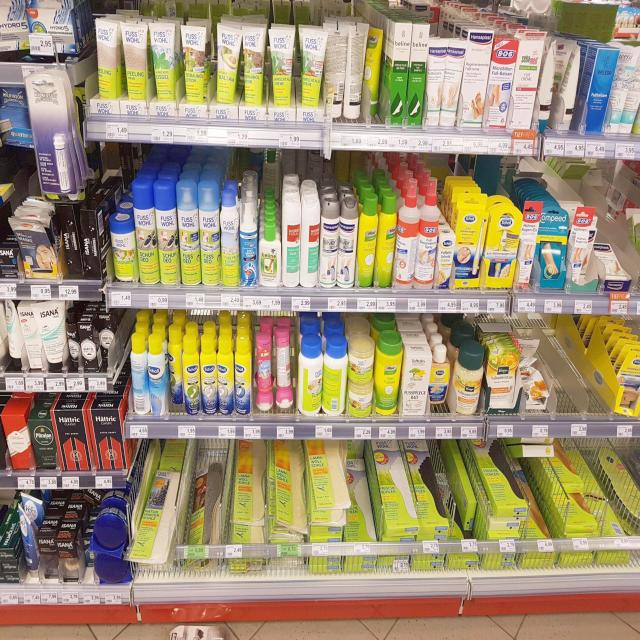empty_space: (579, 328, 603, 402), (552, 329, 574, 403)
